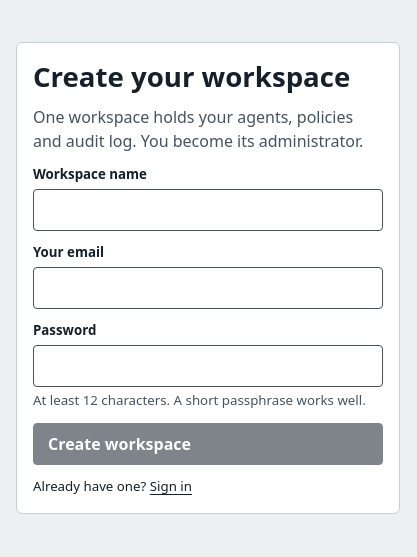
Test: sign up › shows the reason when the API says 403
Type "Acme" into the field labelled "Workspace name" at (208, 210), box [33,189,383,231]
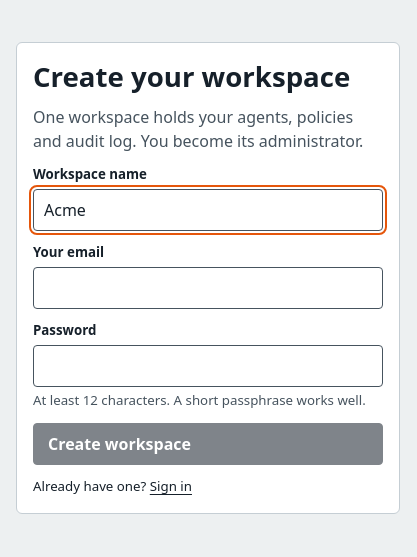
Type "ana@acme.com" into the field labelled "Your email" at (208, 288), box [33,267,383,309]
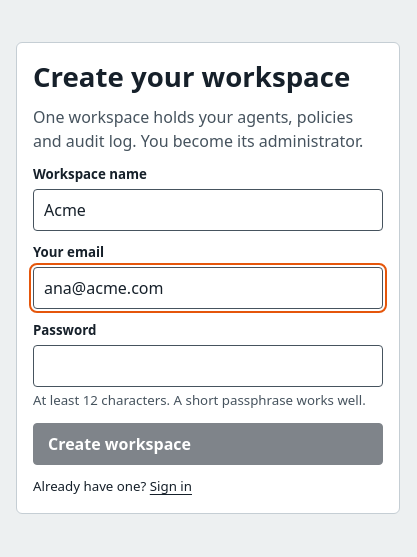
Type "a-long-passphrase-1" into the password field labelled "Password" at (208, 366), box [33,345,383,387]
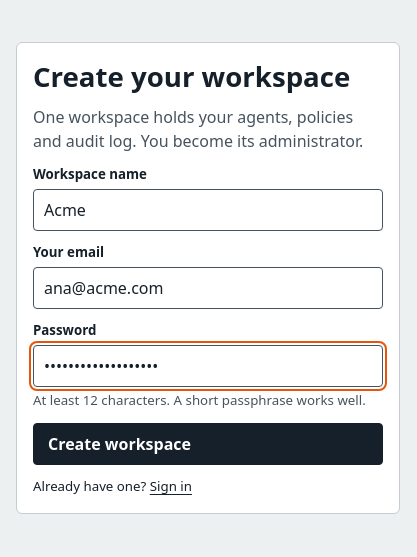
Click the button "Create workspace" at (120, 444), box [33,423,383,465]
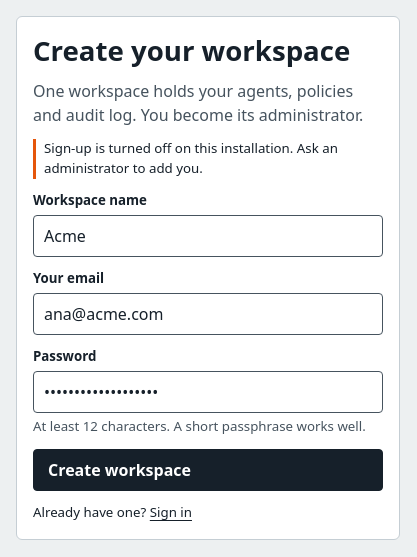
Expected: the message reads "Sign-up is turned off on this installation. Ask an administrator to add you.", [44,140,338,177]
